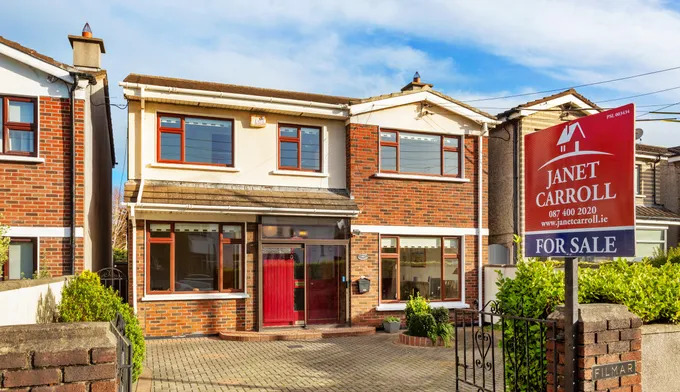property sign: (506, 99, 638, 269)
